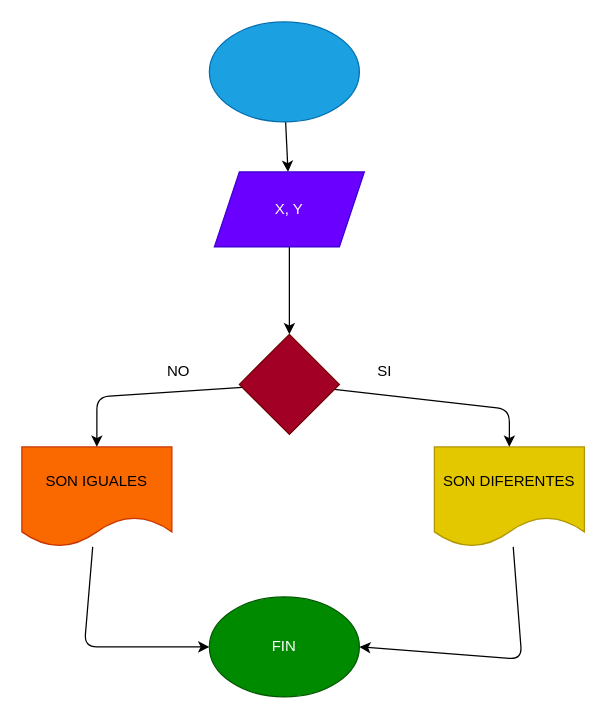
The diagram is 606 pixels wide and 719 high, and some of its shapes have lost their labels. Each missing label, with the box of its shape:
INICIO: (208, 21, 359, 122)
X != Y: (238, 333, 339, 434)
